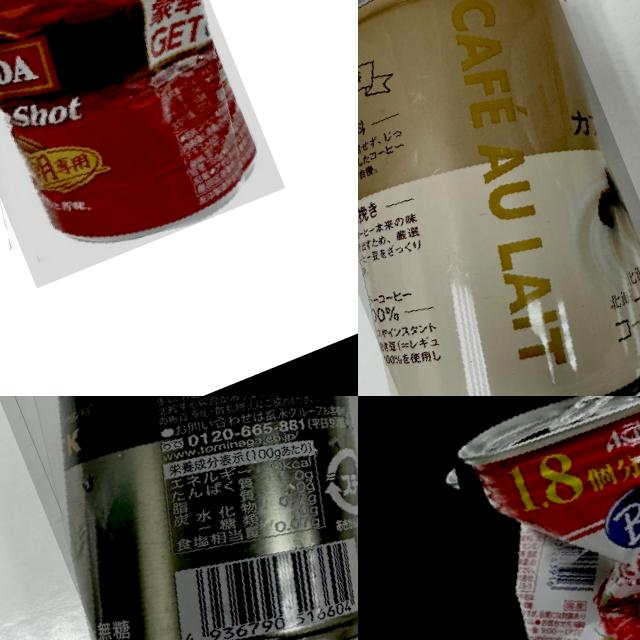Aluminium Foil: (0, 0, 285, 287)
Can: (358, 0, 640, 396), (0, 396, 358, 640), (404, 396, 640, 640)
